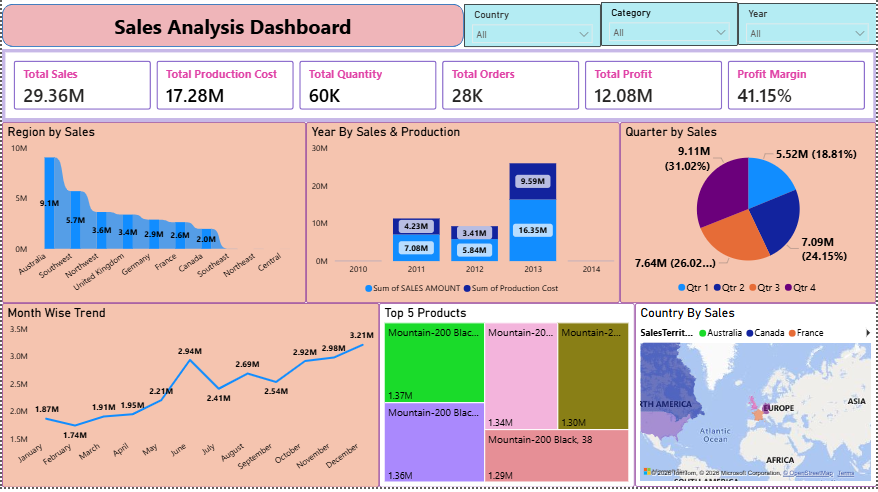

What the dashboard file says about the page in this screenshot:
{"tool":"powerbi","page":{"name":"Page1","canvas":[1280,720],"ordinal":2},"visuals":[{"type":"lineStackedColumnComboChart","title":"Year By Sales & Production","fields":{"Category":["Sales.ORDERDATE1.Variation.Date Hierarchy.Year"],"Y":["Sum(Sales.SALES AMOUNT)","Sum(Sales.Production Cost)"]},"box":[445.1,185.9,459.4,264.6],"z":1000},{"type":"lineChart","title":"Month Wise Trend","fields":{"Category":["Sales.ORDERDATE1.Variation.Date Hierarchy.Month"],"Y":["Sum(Sales.SALES AMOUNT)"]},"box":[0,450.5,552.4,269.9],"z":2000},{"type":"pieChart","title":"Quarter by Sales","fields":{"Category":["Sales.ORDERDATE1.Variation.Date Hierarchy.Quarter"],"Y":["Sum(Sales.SALES AMOUNT)"]},"box":[904.6,185.9,375.4,264.6],"z":3000},{"type":"ribbonChart","title":"Region by Sales","fields":{"Category":["DimSalesTerritory.SalesTerritoryRegion"],"Y":["Sum(Sales.SALES AMOUNT)"]},"box":[0,185.9,445.1,264.6],"z":4000},{"type":"filledMap","title":"Country By Sales","fields":{"Category":["DimSalesTerritory.SalesTerritoryCountry"],"Series":["DimSalesTerritory.SalesTerritoryCountry"]},"box":[926.3,450.7,354.1,269.3],"z":5000},{"type":"treemap","title":"Top 5 Products","fields":{"Group":["DimProduct.EnglishProductName"],"Values":["Sum(Sales.SALES AMOUNT)"]},"box":[552.4,450.5,373.6,269.9],"z":5002},{"type":"cardVisual","fields":{"Data":["Sum(Sales.SALES AMOUNT)","Sum(Sales.Production Cost)","Sales.Total Quantitys","Sales.Total Orders","Sum(Sales.Profit)","Sales.Profit Margin"]},"box":[0,79,1280.5,106.8],"z":5003},{"type":"shape","box":[0,12.5,675.8,62.6],"z":5004},{"type":"slicer","fields":{"Values":["DimProduct.DimProdCategory.EnglishProductCategoryName"]},"box":[876,10.7,200.2,64.4],"z":5006},{"type":"slicer","fields":{"Values":["DimSalesTerritory.SalesTerritoryCountry"]},"box":[675.8,12.5,200.2,62.6],"z":5007},{"type":"slicer","fields":{"Values":["Sales.ORDERDATE1.Variation.Date Hierarchy.Year"]},"box":[1077.1,11.7,203.4,61.5],"z":5008}]}

Visuals, with their boxes in screenshot pixels (x1, y1, x2, y2), scaled from the page's 1280x720 canvas onto the 878x492 screenshot:
"Year By Sales & Production" lineStackedColumnComboChart: <box>305,127,620,308</box>
"Month Wise Trend" lineChart: <box>0,308,379,491</box>
"Quarter by Sales" pieChart: <box>620,127,877,308</box>
"Region by Sales" ribbonChart: <box>0,127,305,308</box>
"Country By Sales" filledMap: <box>635,308,877,491</box>
"Top 5 Products" treemap: <box>379,308,635,491</box>
cardVisual - Sum(Sales.SALES AMOUNT) x Sum(Sales.Production Cost): <box>0,54,877,127</box>
shape: <box>0,9,464,51</box>
slicer - DimProduct.DimProdCategory.EnglishProductCategoryName: <box>601,7,738,51</box>
slicer - DimSalesTerritory.SalesTerritoryCountry: <box>464,9,601,51</box>
slicer - Sales.ORDERDATE1.Variation.Date Hierarchy.Year: <box>739,8,877,50</box>
